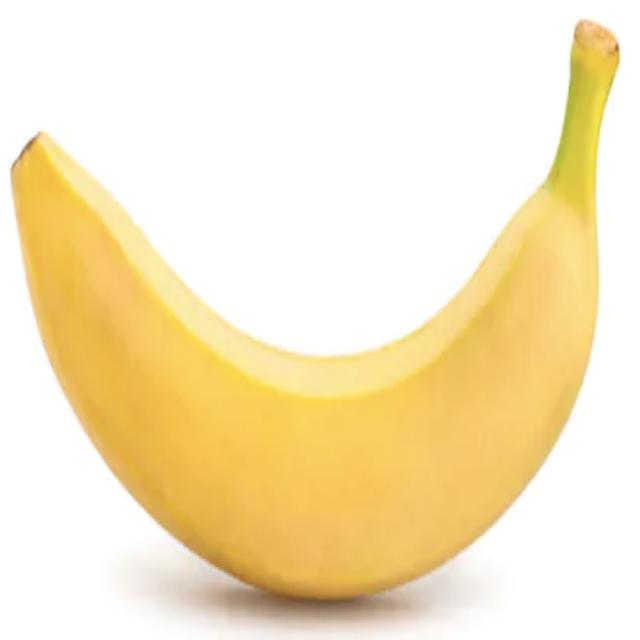fresh-banana: (9, 17, 621, 601)
